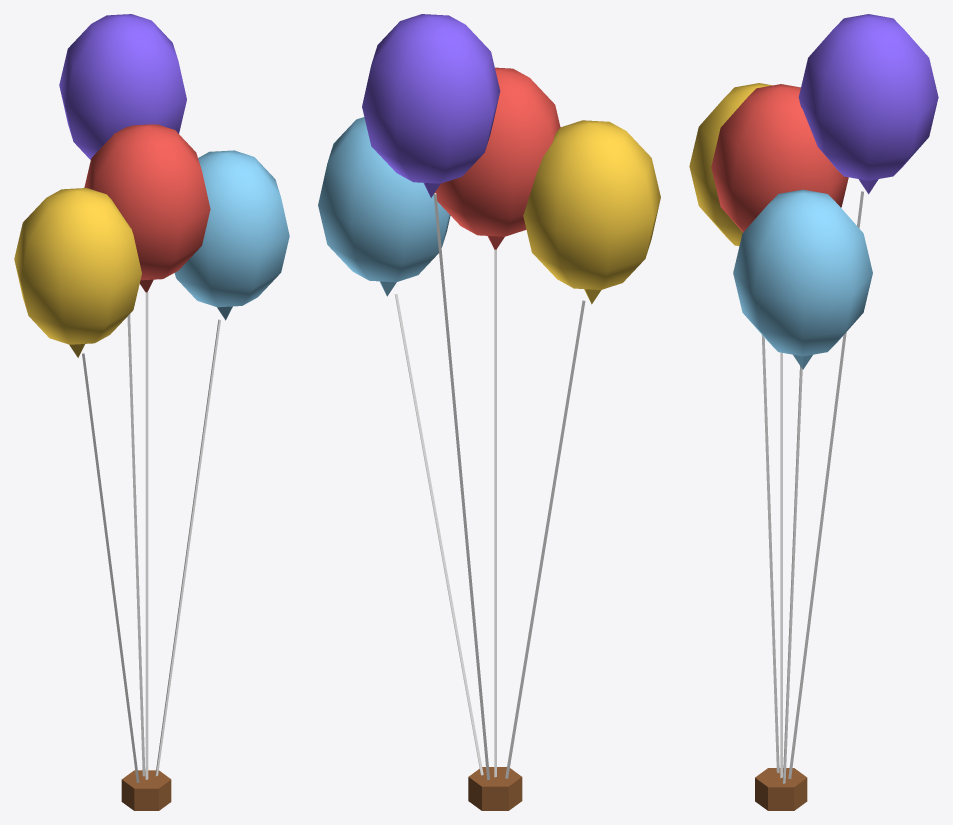
The model's file is prop_balloon_bundle.glb.
3 views of the same model, side by side, from view 1: azimuth 30°, elevation 25°; view 2: azimuth 150°, elevation 25°; view 3: azimuth 270°, elevation 25° (orthographic). The views are drawn at different scales.
Visible parts, largest first — view 1: prop_balloon_bundle; view 2: prop_balloon_bundle; view 3: prop_balloon_bundle.
Boxes of the visible parts, bbox=[...] form: prop_balloon_bundle: bbox=[14, 14, 289, 810]; prop_balloon_bundle: bbox=[318, 14, 660, 810]; prop_balloon_bundle: bbox=[689, 14, 938, 810].
Size of the model in its own units: 0.79 by 2 by 0.57.
